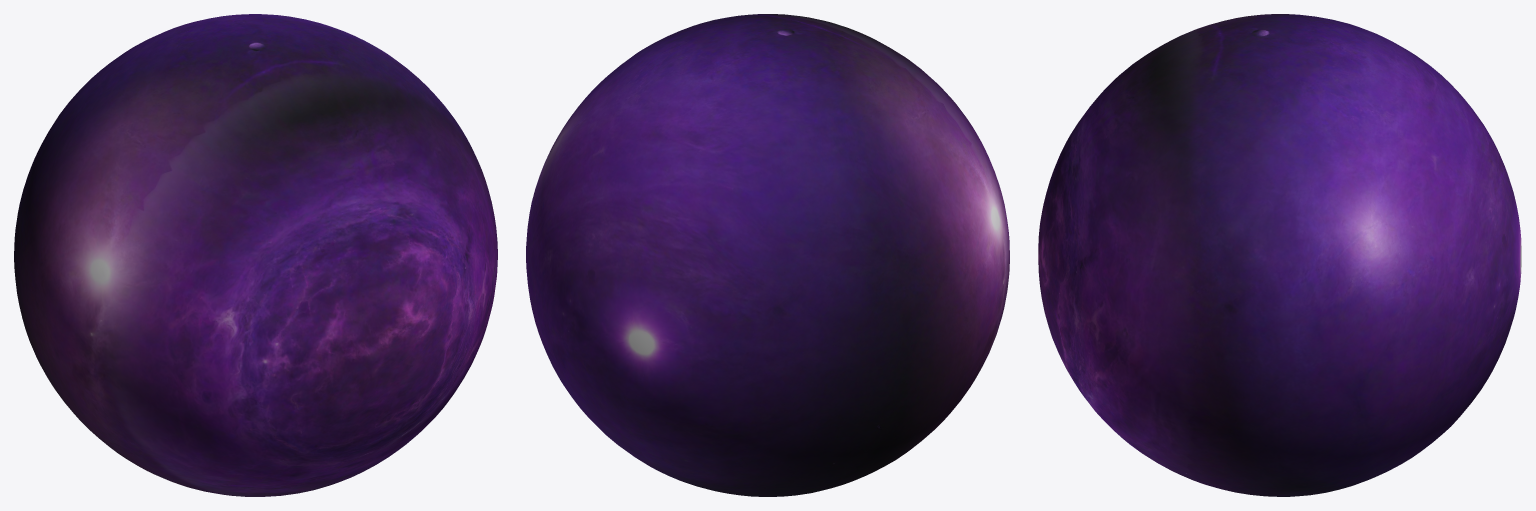
File: purple-gas.glb
3 views of the same model, side by side, from view 1: azimuth 30°, elevation 25°; view 2: azimuth 150°, elevation 25°; view 3: azimuth 270°, elevation 25° (orthographic).
Size of the model in its own units: 2 by 2 by 2.
Materials: 1 (1 with a texture image).
